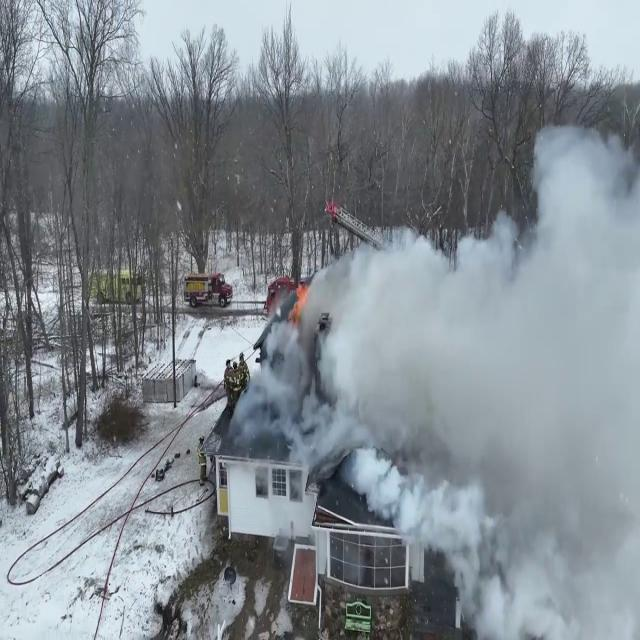Smoke: (277, 94, 640, 636)
